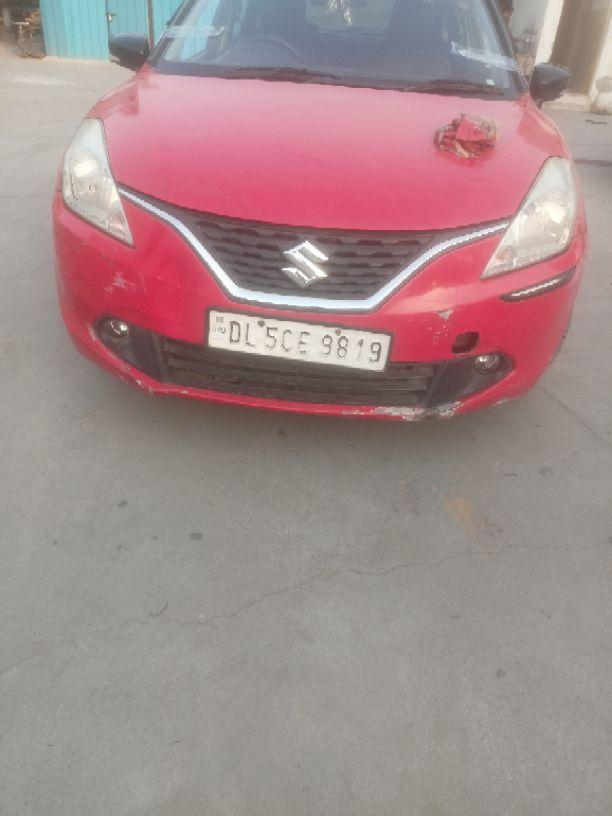license_plate: (205, 309, 392, 373)
